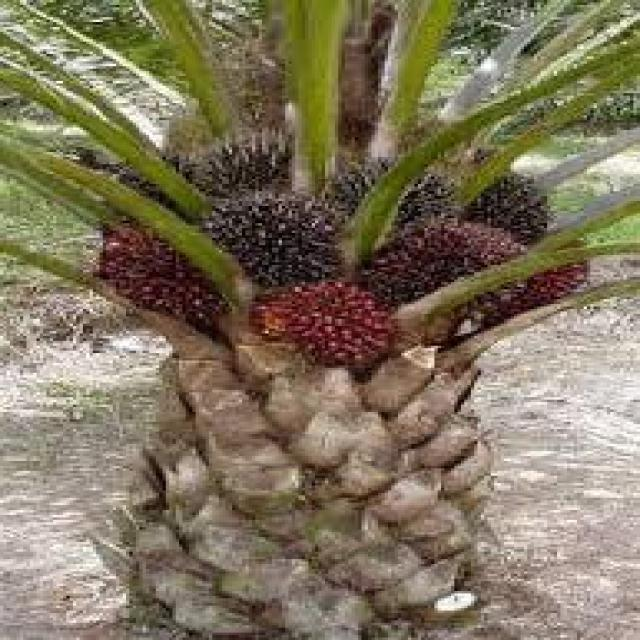Ripefruit: (100, 222, 232, 322), (254, 280, 396, 366), (476, 260, 592, 306)
